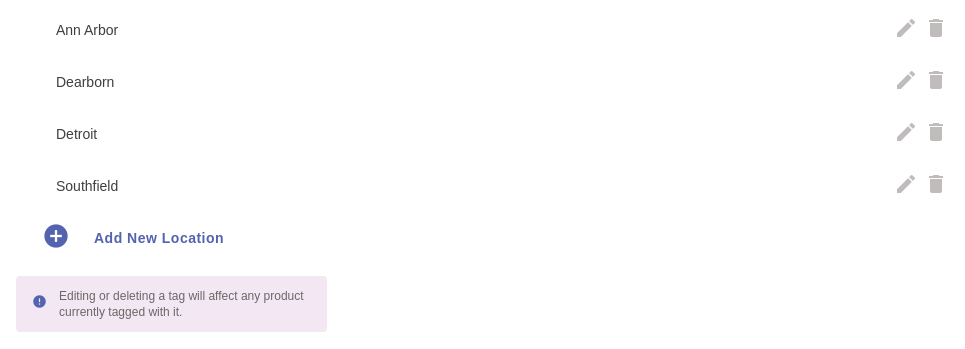
Test case: My Tags Form › Editing a tag › Editing a location tag › should show edit section when clicking the pencil next to tag
Click the 1st button with test id "editIcon__location". click: coordinates (906, 30)
box: [894,16,918,44]
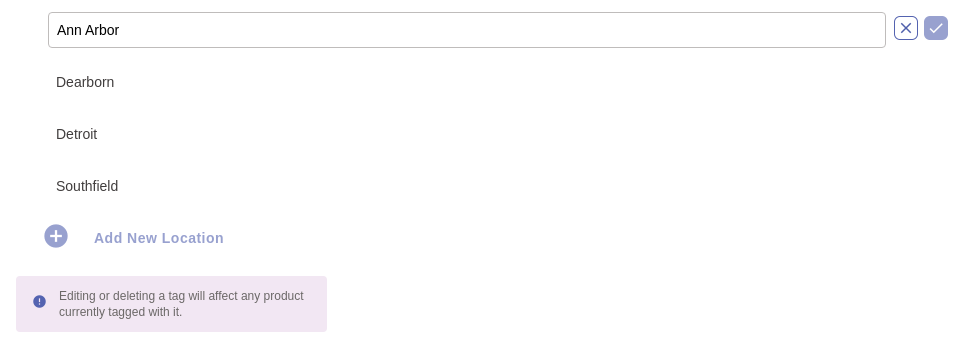
Expected: the button with test id "saveTagButton" is shown, [924,16,948,44]
